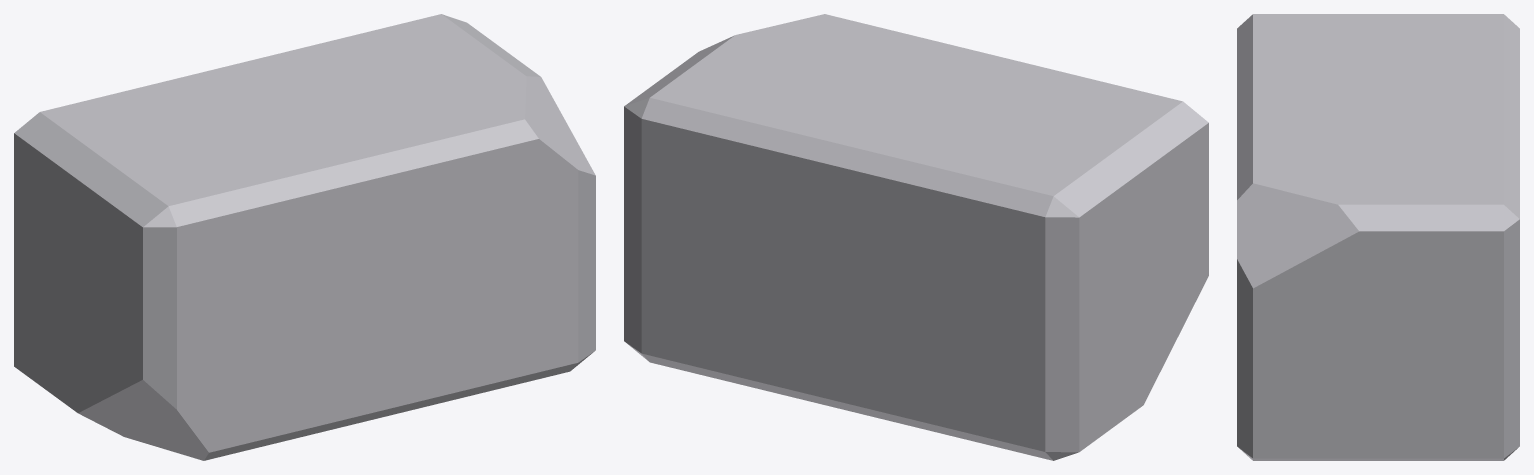
Rendered from Rock_Block_m_06.fbx.
3 renders of one model, left to right at view 1: azimuth 30°, elevation 25°; view 2: azimuth 150°, elevation 25°; view 3: azimuth 270°, elevation 25°, orthographic. The views are drawn at different scales.
Parts seen in each view (by area): view 1: Rock_Block_m_06; view 2: Rock_Block_m_06; view 3: Rock_Block_m_06.
Boxes of the visible parts, left/top/right/bottom form: Rock_Block_m_06: left=14, top=14, right=595, bottom=460; Rock_Block_m_06: left=624, top=14, right=1208, bottom=460; Rock_Block_m_06: left=1237, top=14, right=1519, bottom=460.
Bounding box in the file's own units: 113 × 63 × 63.
